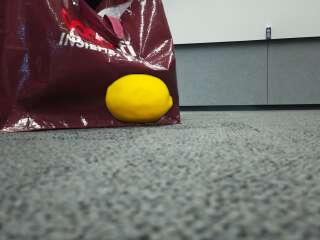lemon: (106, 75, 172, 124)
